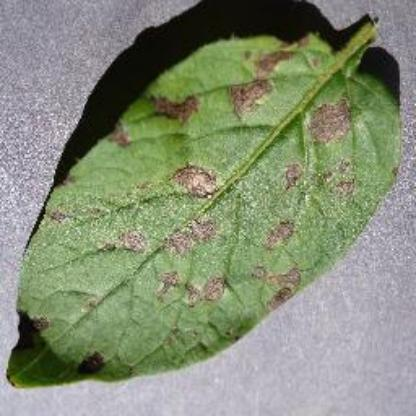Early-Blight: (9, 16, 409, 396)
